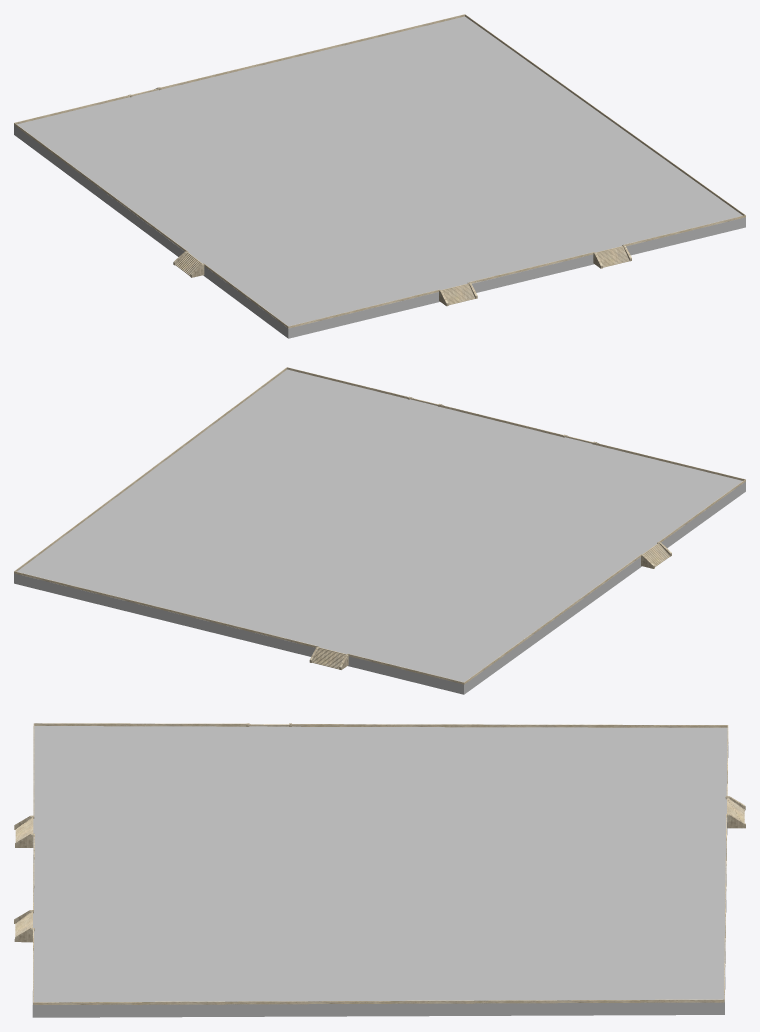
File: step01.fbx
The picture shows the model from 3 angles, top to bottom: view 1: azimuth 30°, elevation 25°; view 2: azimuth 150°, elevation 25°; view 3: azimuth 270°, elevation 25°; orthographic projection. The views are drawn at different scales.
Parts seen in each view (by area): view 1: concrete13, concrete_15; view 2: concrete13, concrete_15; view 3: concrete13, concrete_15.
Part boxes in pixels (x1,y1,x2,y2): concrete13: (14,16,745,338); concrete_15: (14,14,745,328); concrete13: (14,369,745,694); concrete_15: (14,367,745,684); concrete13: (32,726,728,1017); concrete_15: (33,723,728,1004).
Bounding box in the file's own units: 4604 × 114 × 4971.
